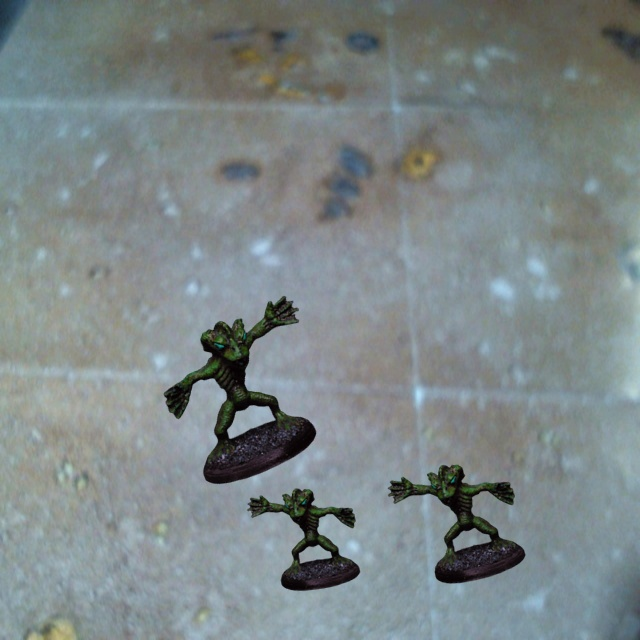pieza_juego: (164, 296, 315, 483), (388, 464, 525, 583), (247, 488, 359, 590)
